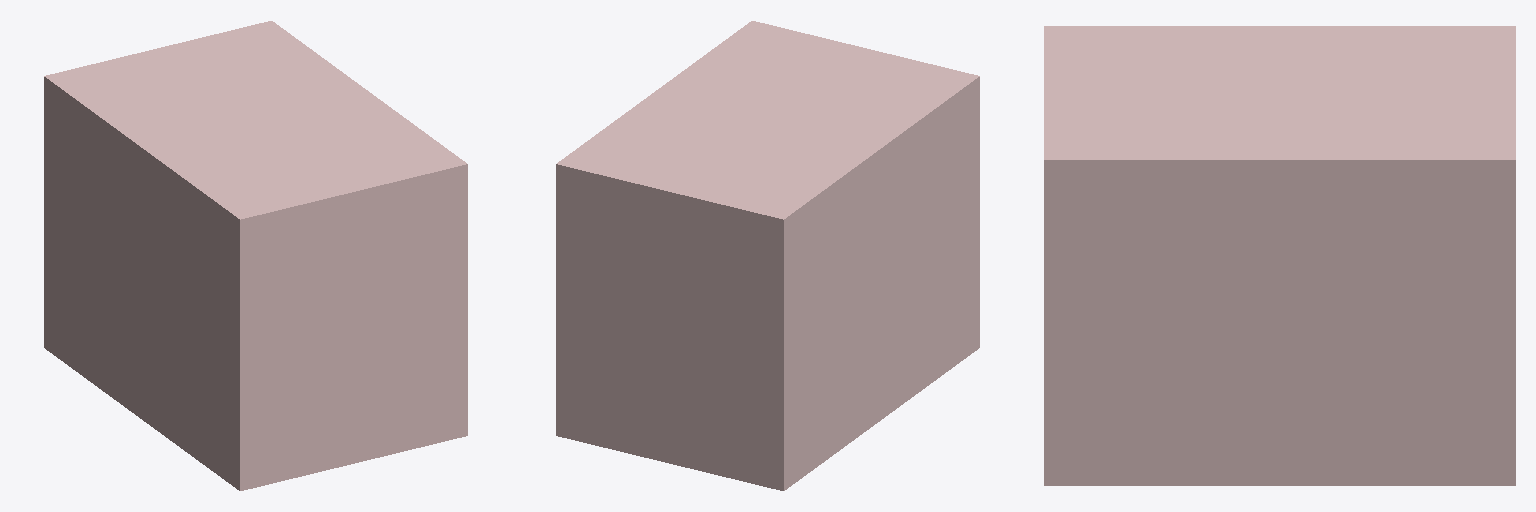
The robot description file, URDF, robot "box.urdf":
<?xml version="1.0" ?>
<robot name="box.urdf">
  <link name="baseLink">
    <contact>
      <lateral_friction value="1.0"/>
      <rolling_friction value="0.0001"/>
      <inertia_scaling value="3.0"/>
    </contact>
    <inertial>
      <origin rpy="0 0 0" xyz="0 0 0"/>
       <mass value="0.1"/>
       <inertia ixx="1" ixy="0" ixz="0" iyy="1" iyz="0" izz="1"/>
    </inertial>
    <visual>
      <origin rpy="0 0 0" xyz="0 0 0"/>
      <geometry>
        <!-- <box size="0.165 0.24600000000000002 0.188"/> -->
        <mesh filename="box/box.obj" scale="0.165 0.24600000000000002 0.188"/>
      </geometry>
      <material name="white">
        <color rgba="0.9 0.8 0.8 1"/>
      </material>
    </visual>
    <collision>
      <origin rpy="0 0 0" xyz="0 0 0"/>
      <geometry>
        <mesh filename="box/box.obj" scale="0.165 0.24600000000000002 0.188"/>
	 	    <!-- <box size="0.165 0.24600000000000002 0.188"/> -->
      </geometry>
    </collision>
  </link>
</robot>

--- What the picture shows (computed from the rendered views, not written in the file) ---
3 views of the same robot in one strip: view 1: azimuth 30°, elevation 25°; view 2: azimuth 150°, elevation 25°; view 3: azimuth 270°, elevation 25° (orthographic).
Robot: box.urdf — 1 links, 0 joints (none); root link baseLink; default pose: every joint at zero.
Links seen in each view (by area): view 1: baseLink; view 2: baseLink; view 3: baseLink.
Link boxes in pixels (bbox=[...]): baseLink: bbox=[44, 21, 467, 490]; baseLink: bbox=[556, 21, 979, 490]; baseLink: bbox=[1044, 26, 1515, 485].
Bounding box of the posed robot: 0.165 × 0.246 × 0.188 m (x, y, z).
1 mesh visuals loaded from 1 distinct referenced files (1 OBJ).
